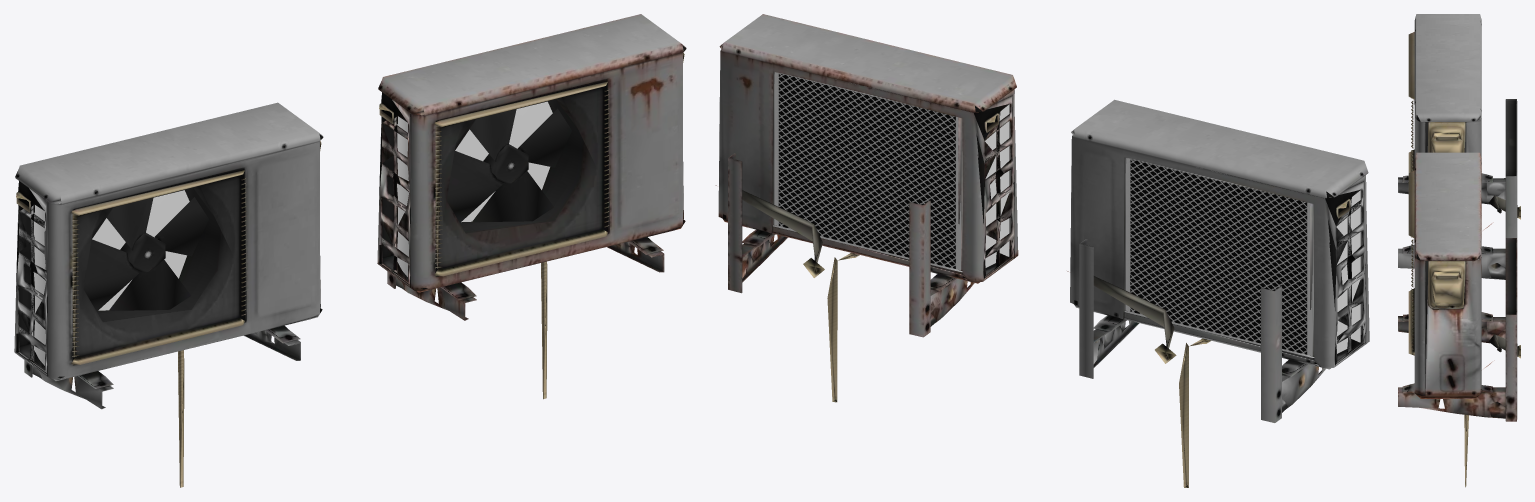
Rendered from cuc-nong.glb.
3 views of the same model, side by side, from view 1: azimuth 30°, elevation 25°; view 2: azimuth 150°, elevation 25°; view 3: azimuth 270°, elevation 25° (orthographic). The views are drawn at different scales.
Parts seen in each view (by area): view 1: exterior_aircon_unit_rusted, exterior_aircon_unit; view 2: exterior_aircon_unit_rusted, exterior_aircon_unit; view 3: exterior_aircon_unit_rusted, exterior_aircon_unit.
Part boxes in pixels (bbox=[...]): exterior_aircon_unit_rusted: bbox=[377, 14, 686, 399]; exterior_aircon_unit: bbox=[14, 102, 323, 487]; exterior_aircon_unit_rusted: bbox=[715, 14, 1018, 402]; exterior_aircon_unit: bbox=[1067, 99, 1369, 487]; exterior_aircon_unit_rusted: bbox=[1398, 152, 1520, 487]; exterior_aircon_unit: bbox=[1398, 14, 1520, 279].
Bounding box in the file's own units: 0.9945 × 0.5153 × 0.2079.
Materials: 4 (4 with a texture image).
